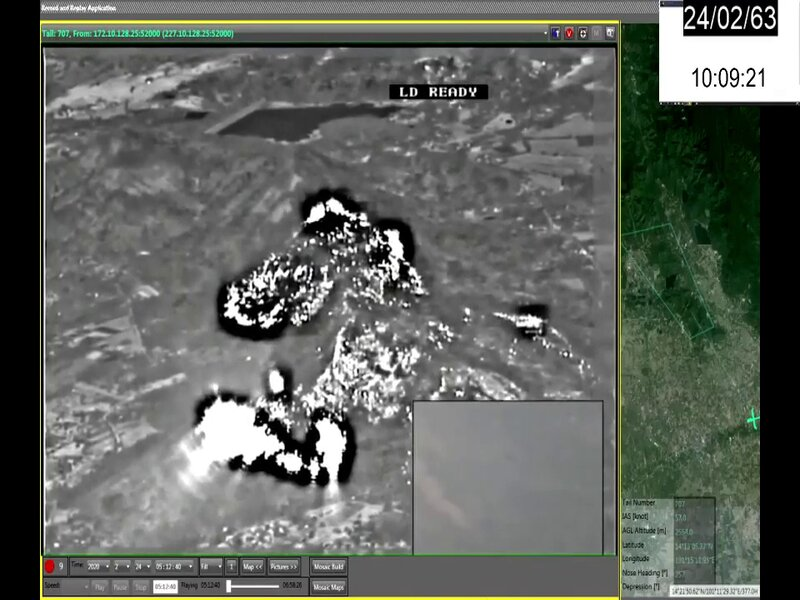Fire: (188, 184, 412, 492)
